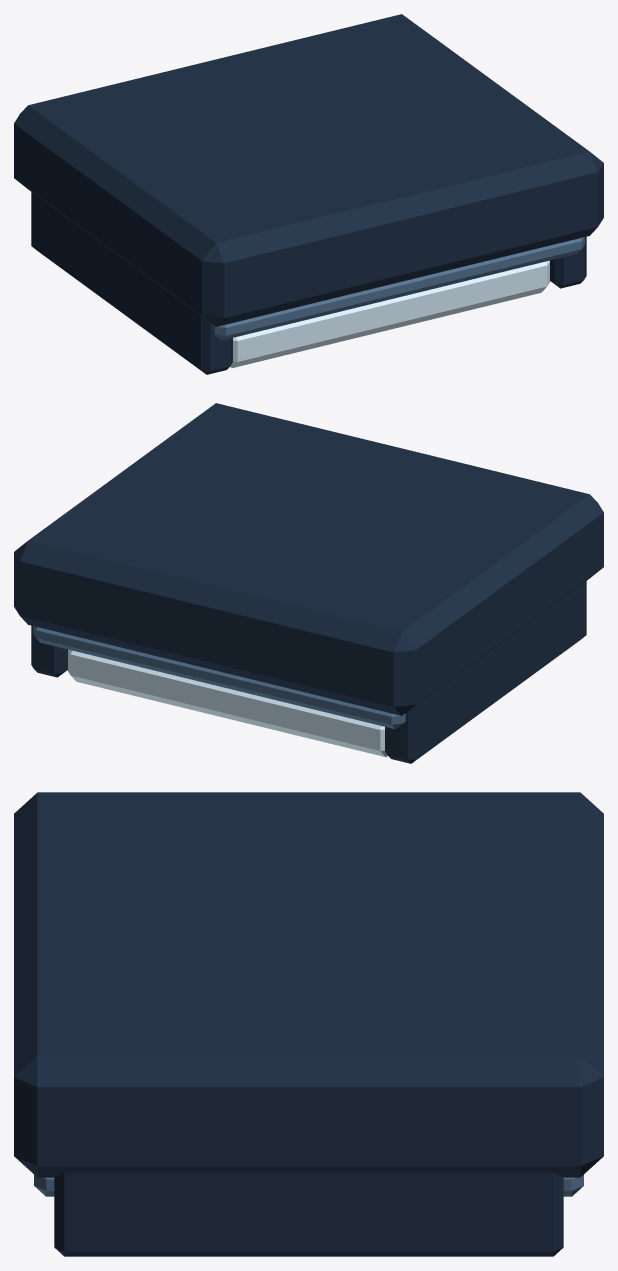
Rendered from prism_spring_pad_compressed.obj.
The picture shows the model from 3 angles, top to bottom: view 1: azimuth 30°, elevation 25°; view 2: azimuth 150°, elevation 25°; view 3: azimuth 270°, elevation 25°; orthographic projection. The views are drawn at different scales.
Visible parts, largest first — view 1: PrismSpringPad_Compressed; view 2: PrismSpringPad_Compressed; view 3: PrismSpringPad_Compressed.
Boxes of the visible parts, <box> form: PrismSpringPad_Compressed: <box>14,14,603,374</box>; PrismSpringPad_Compressed: <box>14,403,603,763</box>; PrismSpringPad_Compressed: <box>14,792,603,1256</box>.
Bounding box in the file's own units: 1 × 0.3645 × 0.88.
Materials: 1 (1 with a texture image).
